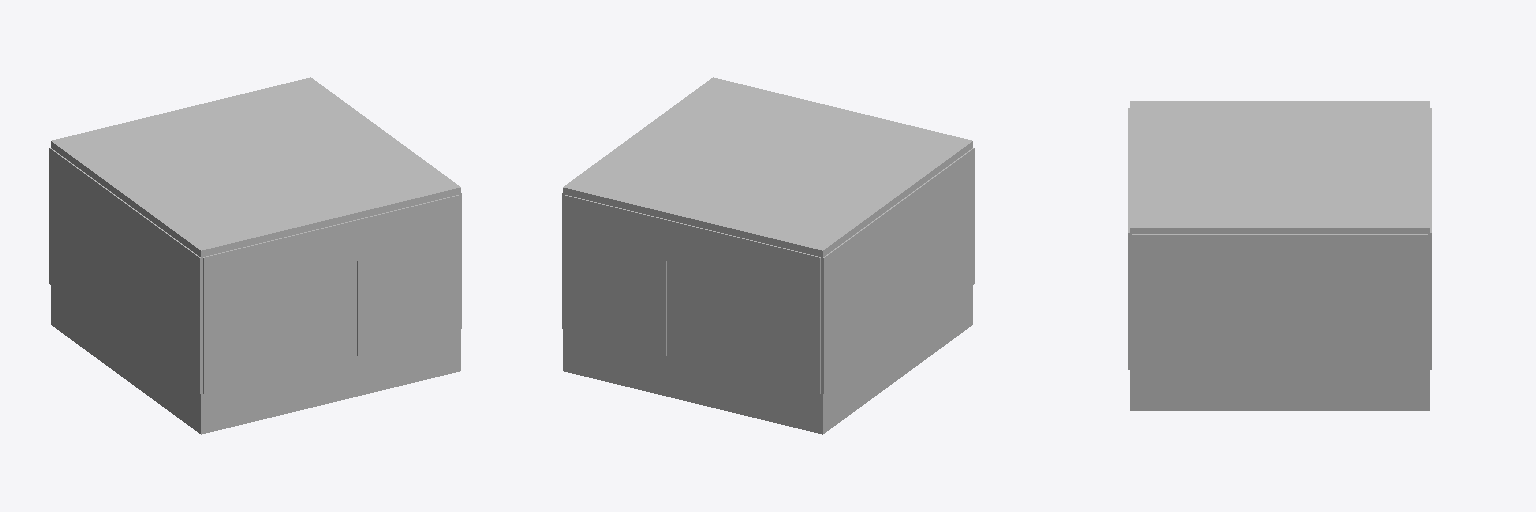
The model's file is 1x1_hotel_room_T_neg_x.obj.
3 views of the same model, side by side, from view 1: azimuth 30°, elevation 25°; view 2: azimuth 150°, elevation 25°; view 3: azimuth 270°, elevation 25° (orthographic).
Visible parts, largest first — view 1: UCX_1x1_hotel_room_T_neg_x_11, UCX_1x1_hotel_room_T_neg_x_10, UCX_1x1_hotel_room_T_neg_x_00, UCX_1x1_hotel_room_T_neg_x_04, UCX_1x1_hotel_room_T_neg_x_05, 1x1_hotel_room_T_neg_x, UCX_1x1_hotel_room_T_neg_x_06; view 2: UCX_1x1_hotel_room_T_neg_x_11, UCX_1x1_hotel_room_T_neg_x_10, UCX_1x1_hotel_room_T_neg_x_00, UCX_1x1_hotel_room_T_neg_x_07, UCX_1x1_hotel_room_T_neg_x_08, 1x1_hotel_room_T_neg_x, UCX_1x1_hotel_room_T_neg_x_09; view 3: UCX_1x1_hotel_room_T_neg_x_11, UCX_1x1_hotel_room_T_neg_x_01, UCX_1x1_hotel_room_T_neg_x_02, UCX_1x1_hotel_room_T_neg_x_00, 1x1_hotel_room_T_neg_x, UCX_1x1_hotel_room_T_neg_x_03.
Part boxes in pixels (x1,y1,x2,y2): UCX_1x1_hotel_room_T_neg_x_11: (51,77,460,256); UCX_1x1_hotel_room_T_neg_x_10: (49,148,200,393); UCX_1x1_hotel_room_T_neg_x_00: (51,286,460,434); UCX_1x1_hotel_room_T_neg_x_04: (203,232,305,393); UCX_1x1_hotel_room_T_neg_x_05: (357,195,459,355); 1x1_hotel_room_T_neg_x: (52,149,460,394); UCX_1x1_hotel_room_T_neg_x_06: (305,220,357,272); UCX_1x1_hotel_room_T_neg_x_11: (563,77,972,257); UCX_1x1_hotel_room_T_neg_x_10: (821,148,974,393); UCX_1x1_hotel_room_T_neg_x_00: (563,286,972,434); UCX_1x1_hotel_room_T_neg_x_07: (718,232,820,393); UCX_1x1_hotel_room_T_neg_x_08: (564,195,666,355); 1x1_hotel_room_T_neg_x: (563,147,972,394); UCX_1x1_hotel_room_T_neg_x_09: (666,220,718,272); UCX_1x1_hotel_room_T_neg_x_11: (1130,101,1429,234); UCX_1x1_hotel_room_T_neg_x_01: (1310,234,1427,370); UCX_1x1_hotel_room_T_neg_x_02: (1132,234,1249,370); UCX_1x1_hotel_room_T_neg_x_00: (1130,371,1429,410); 1x1_hotel_room_T_neg_x: (1130,233,1429,371); UCX_1x1_hotel_room_T_neg_x_03: (1250,234,1309,275).
Size of the model in its own units: 20.2 by 13.5 by 20.2.